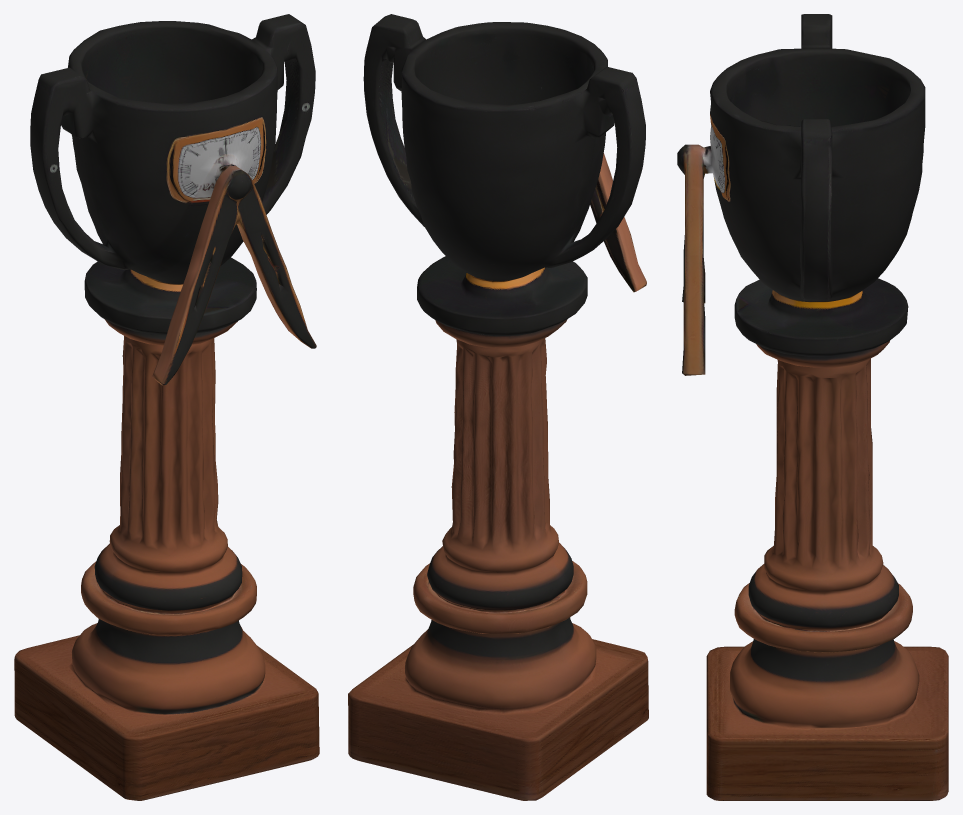
Rendered from award_architect.glb.
3 renders of one model, left to right at view 1: azimuth 30°, elevation 25°; view 2: azimuth 150°, elevation 25°; view 3: azimuth 270°, elevation 25°, orthographic.
Size of the model in its own units: 0.7867 by 1.91 by 0.6849.
1 material, 1 textured.
